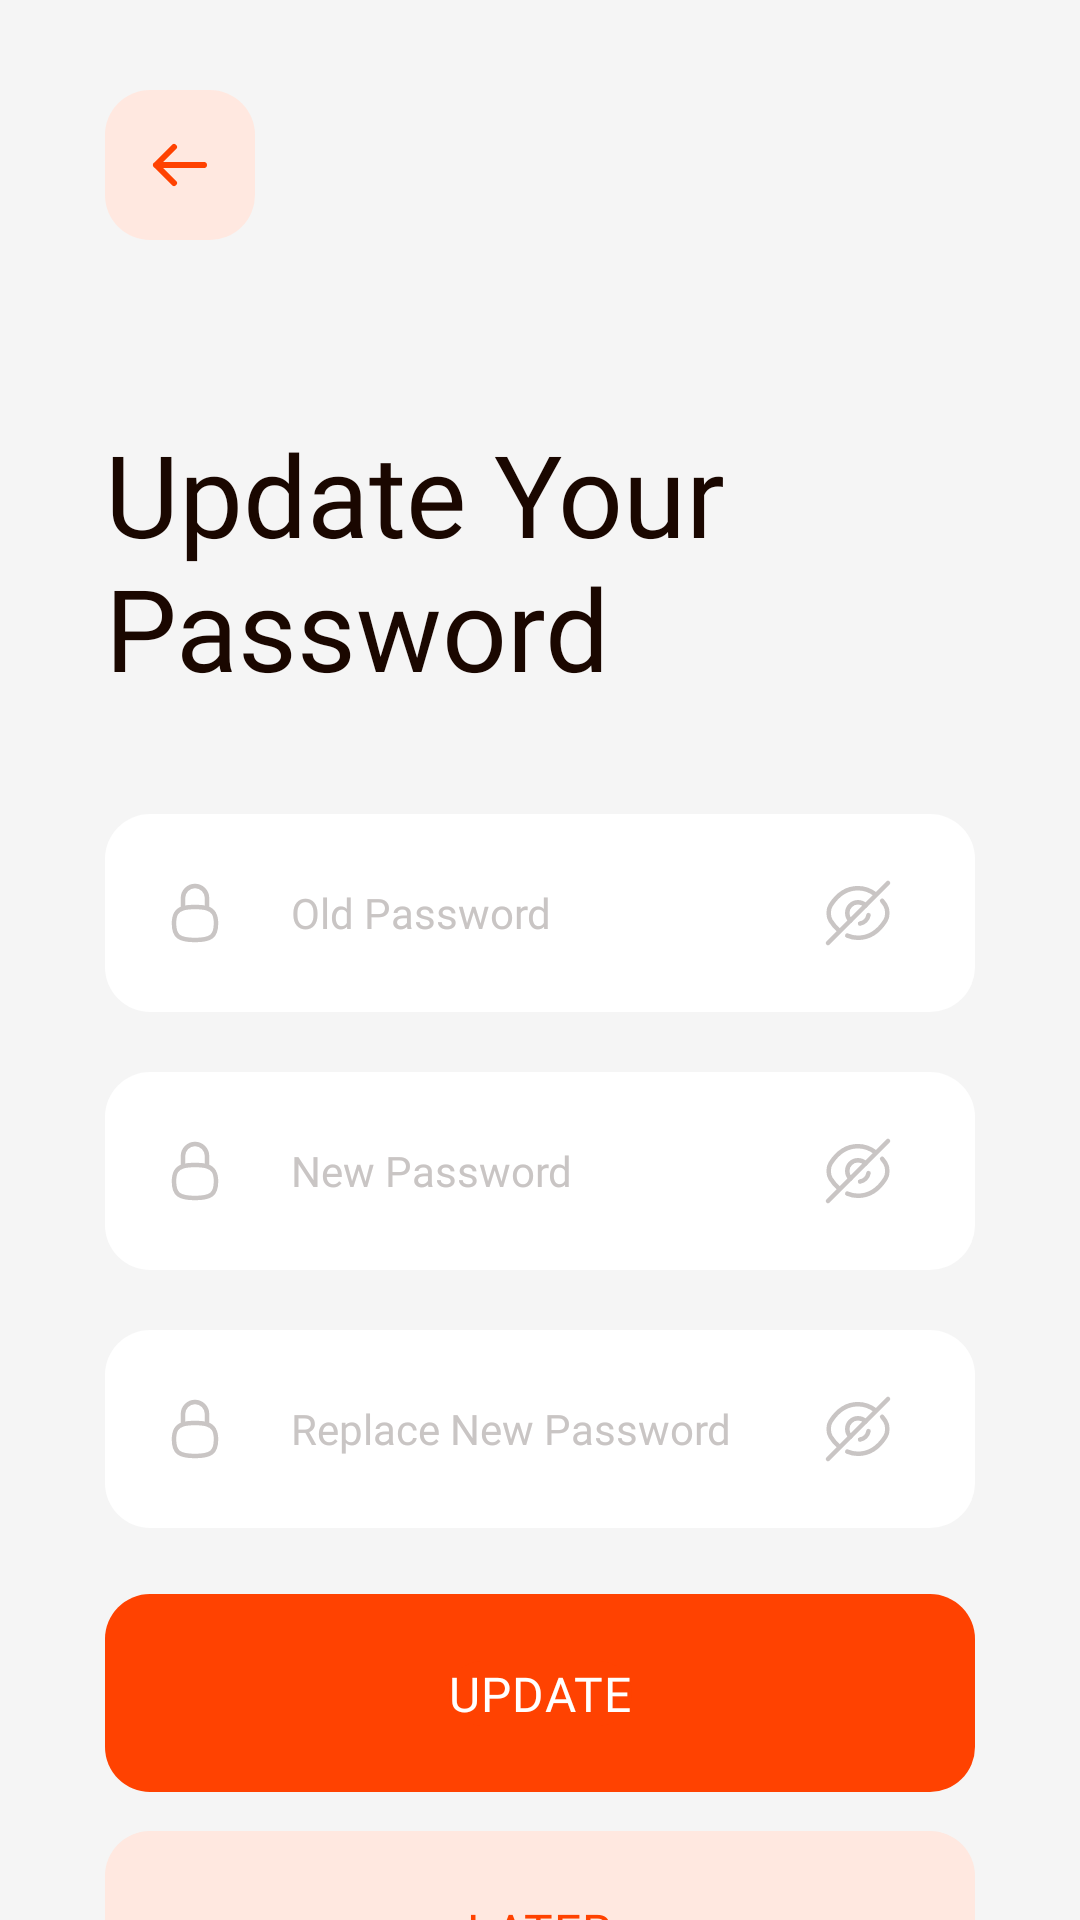

Locate icon controls on the screen. Image size 1080×1920, boxes as bbox=[x1, y1, x2, y2].
back: bbox=[105, 90, 255, 240]
password hide: bbox=[826, 881, 890, 945], bbox=[826, 1139, 890, 1203], bbox=[826, 1397, 890, 1461]
